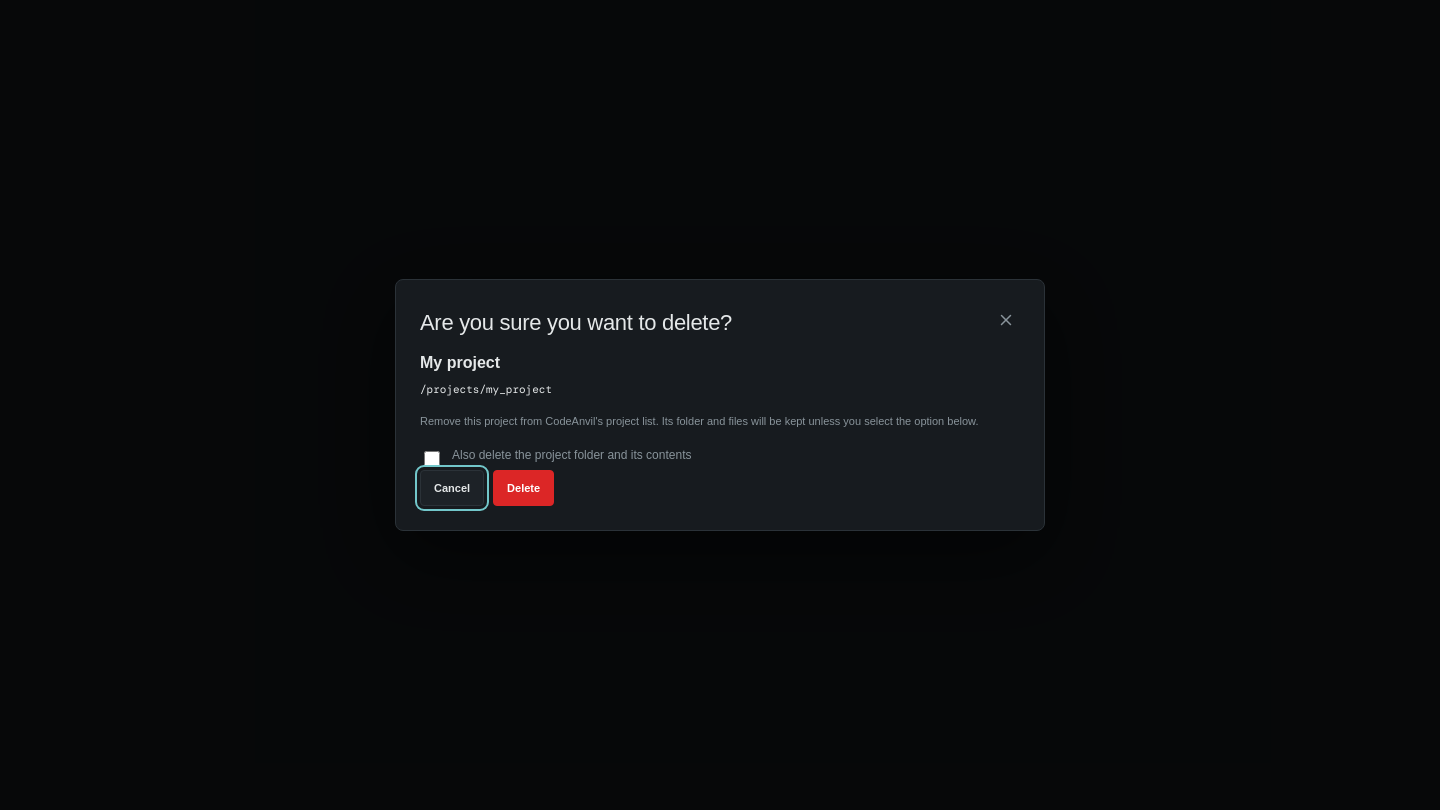
Delete project confirmation › leaves the dialog and selection available when the server rejects deletion
Click the button "Delete" at (524, 488), box [493, 470, 554, 506]
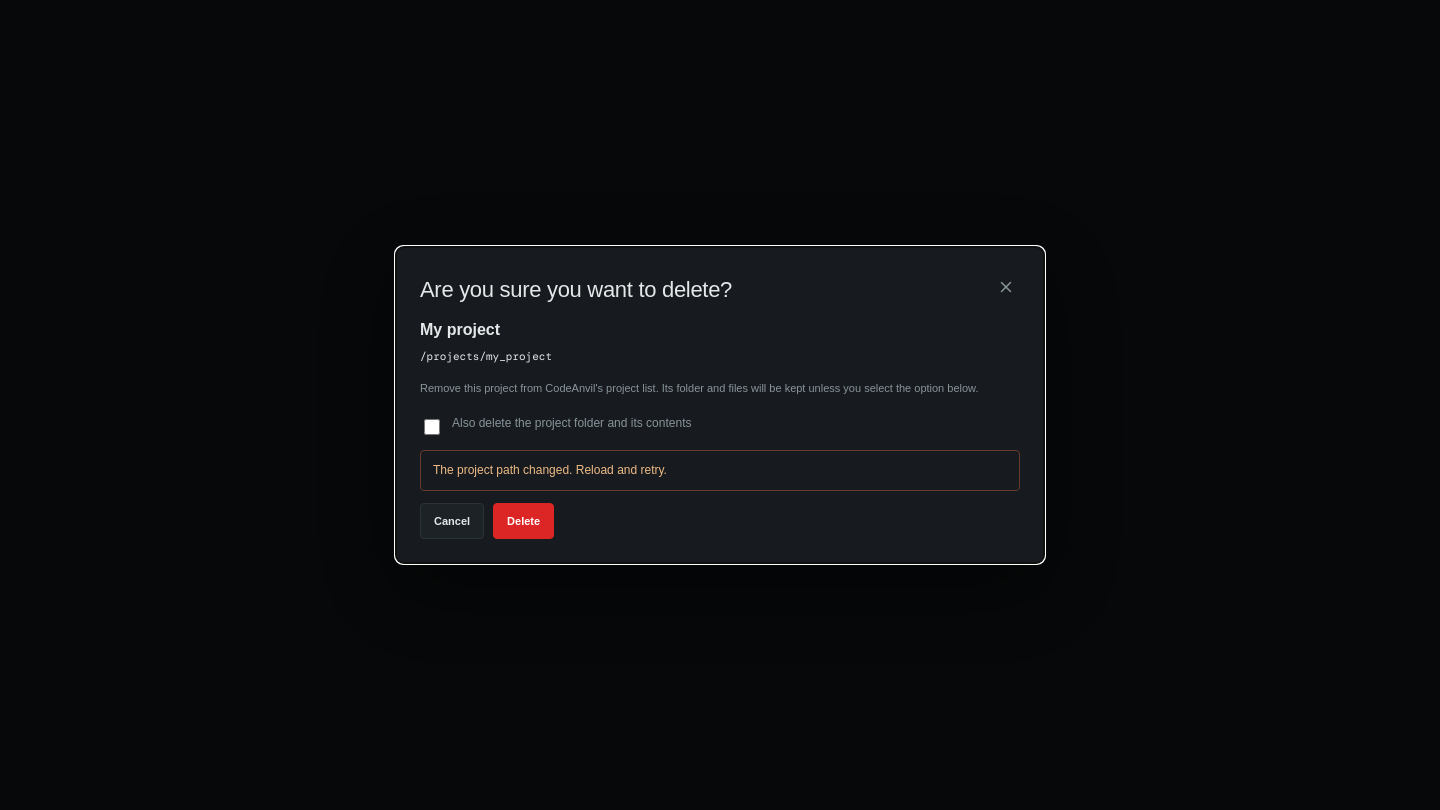
Expected: the dialog is shown, [395, 246, 1045, 564]
Result: the message shows "The project path changed" at [433, 462, 667, 476]
